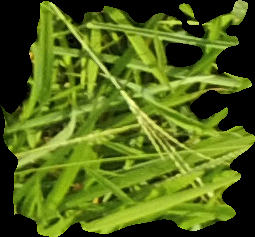grass: (1, 1, 254, 236)
